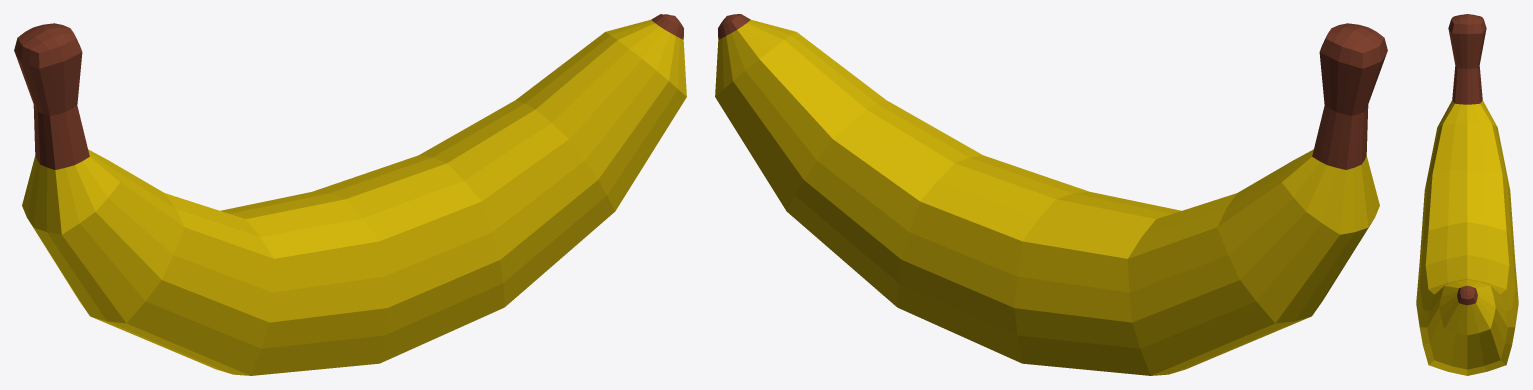
File: Banana.fbx
The picture shows the model from 3 angles, left to right: view 1: azimuth 30°, elevation 25°; view 2: azimuth 150°, elevation 25°; view 3: azimuth 270°, elevation 25°; orthographic projection. The views are drawn at different scales.
Visible parts, largest first — view 1: Banana; view 2: Banana; view 3: Banana.
Boxes of the visible parts, bbox=[...] form: Banana: bbox=[14, 14, 686, 375]; Banana: bbox=[715, 14, 1387, 375]; Banana: bbox=[1416, 14, 1518, 375].
Size of the model in its own units: 16.33 by 9.43 by 3.55.
